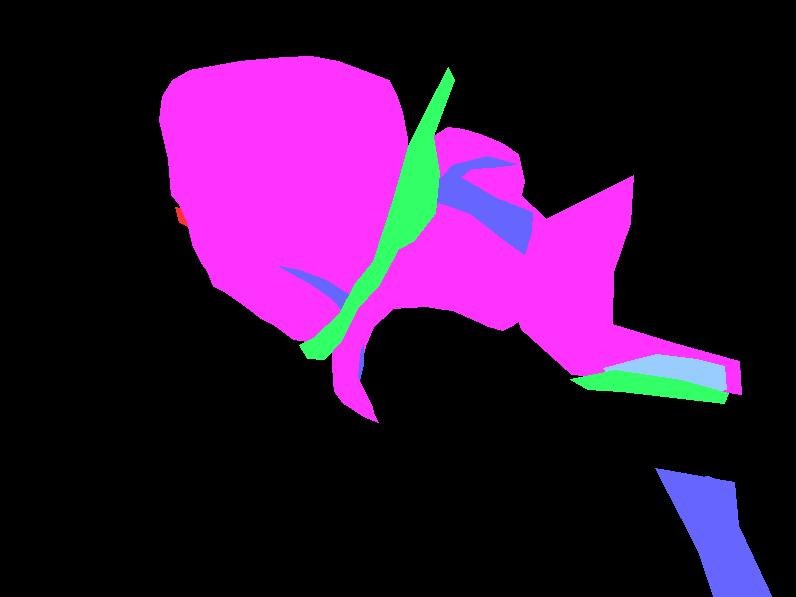Broken part: (299, 67, 454, 359), (570, 370, 728, 403)
Corrosion: (603, 354, 726, 393)
Dent: (159, 56, 407, 341), (332, 127, 548, 422), (507, 175, 741, 394), (350, 300, 392, 378)
Flaking: (208, 64, 352, 89)
Missing part: (175, 207, 374, 282)
Scratch: (655, 468, 771, 596), (398, 156, 532, 254), (426, 147, 533, 248), (395, 238, 523, 297), (189, 151, 364, 189), (211, 171, 362, 203), (408, 273, 513, 310), (279, 266, 355, 313), (218, 59, 352, 84), (366, 183, 401, 231), (406, 185, 435, 233), (332, 226, 392, 246), (696, 541, 738, 563), (705, 562, 741, 583), (461, 161, 522, 173), (465, 147, 508, 164), (345, 341, 363, 381), (684, 490, 714, 512), (692, 520, 725, 539), (388, 157, 408, 173), (621, 363, 636, 379), (692, 476, 720, 484), (598, 363, 615, 376)
